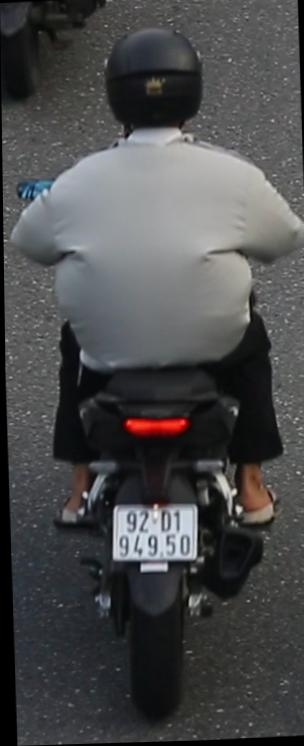LP: (104, 496, 204, 574)
helmet: (99, 17, 208, 136)
